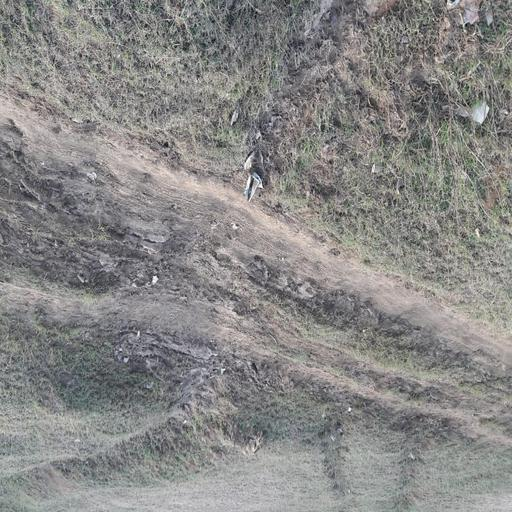vehicle_track: (0, 86, 512, 371), (0, 283, 512, 447)
